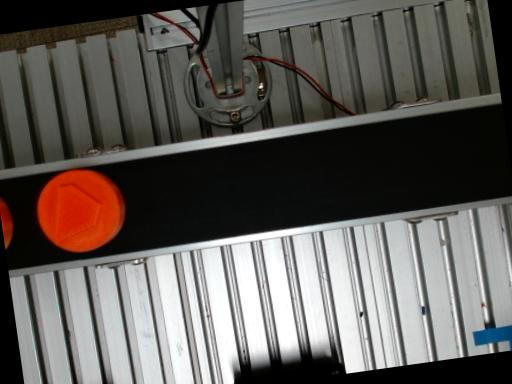Not_Square: (55, 184, 101, 244)
Orange_Waper: (38, 169, 126, 252)
